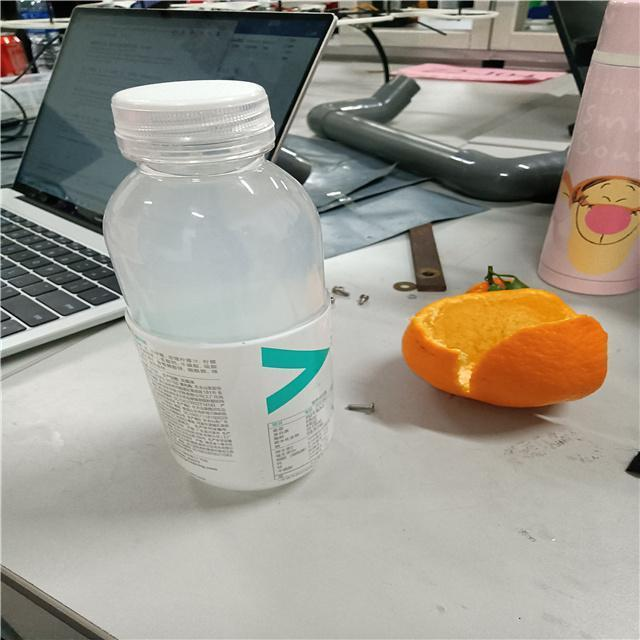orange peel: (402, 274, 608, 416)
